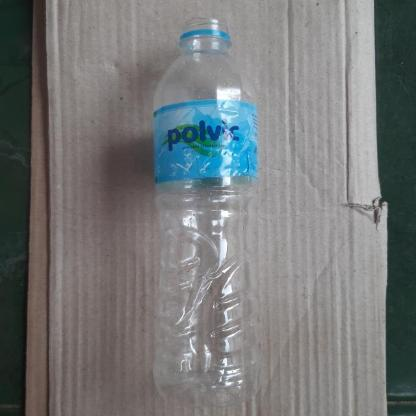Plastic Bottle: (150, 20, 258, 406)
